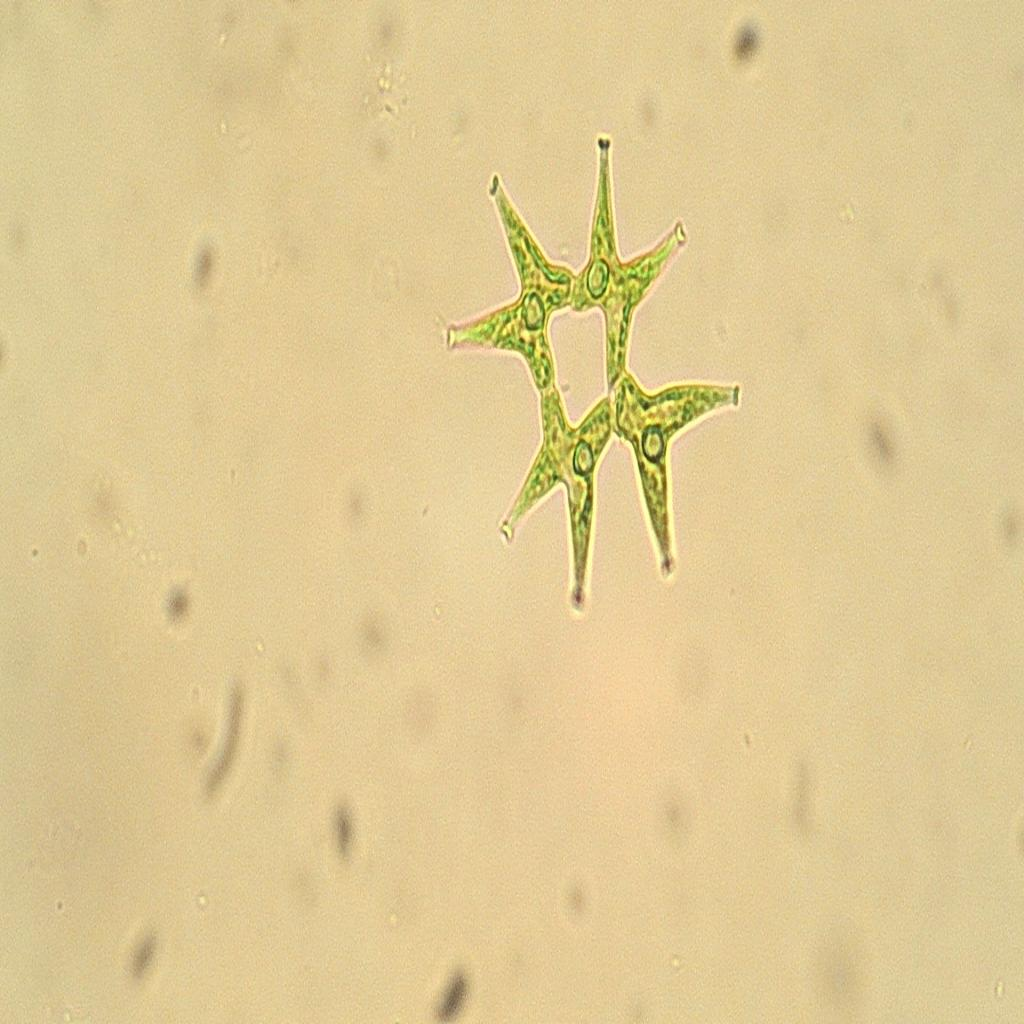Pediastrum_CT: (430, 117, 750, 625)
